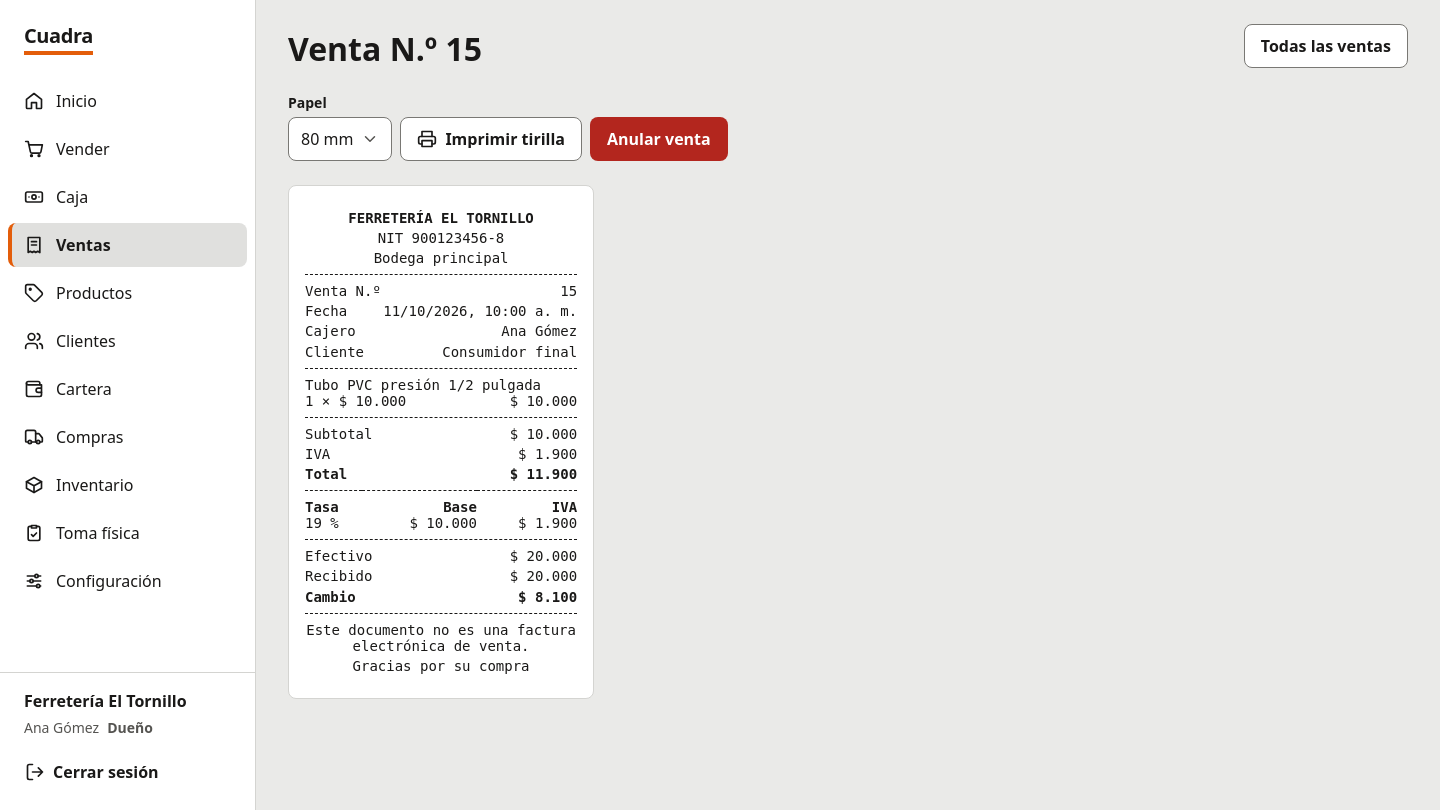
it: SaleDetailPage: anular › exige el motivo antes de anular
This screenshot has width=1440, height=810.
What coordinates should you click on to do the following:
click the button "Anular venta"
I would click on:
 (659, 139)
Its box is [590, 117, 728, 161].
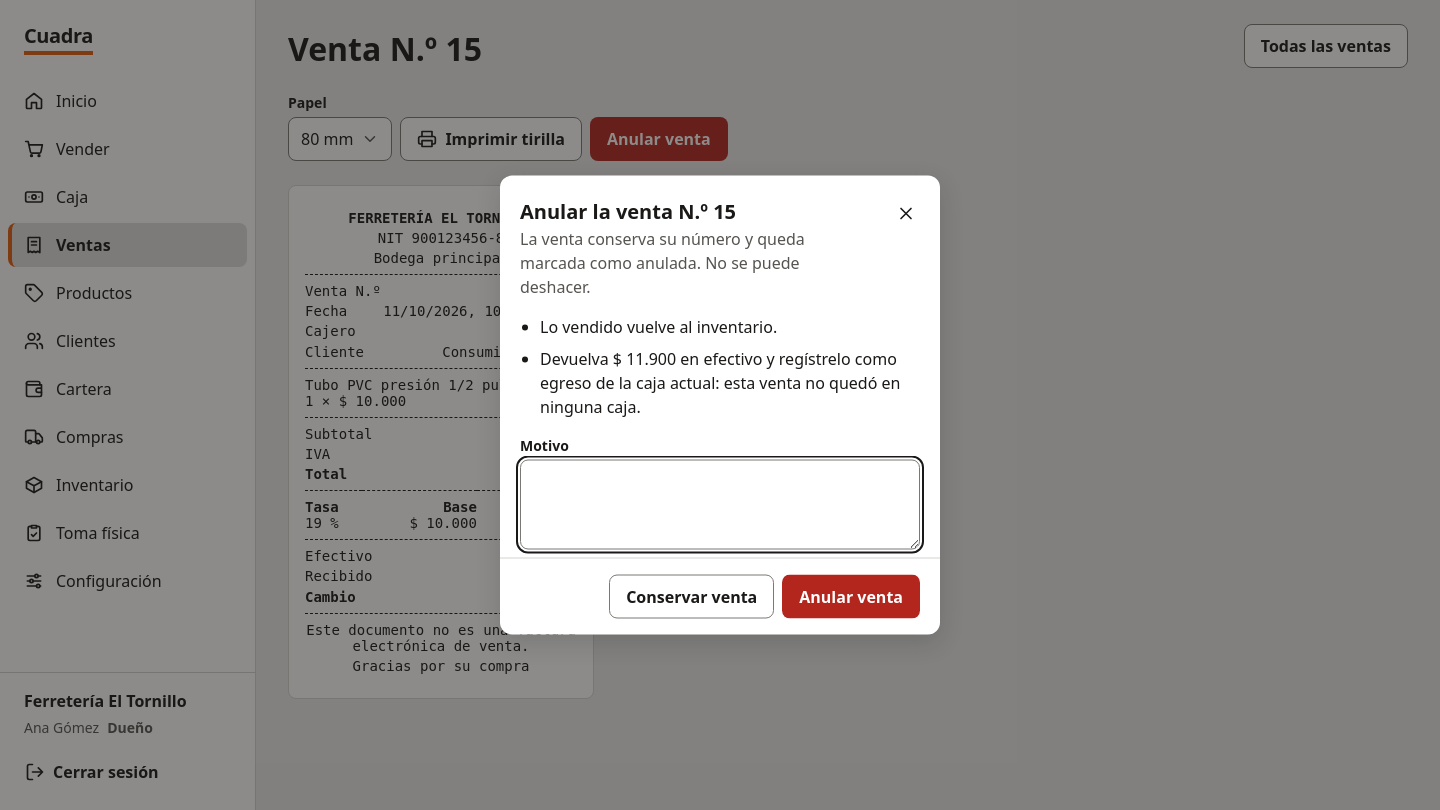
What coordinates should you click on to do the following:
click the button "Anular venta"
I would click on:
 (851, 596)
Its box is [782, 574, 920, 618].
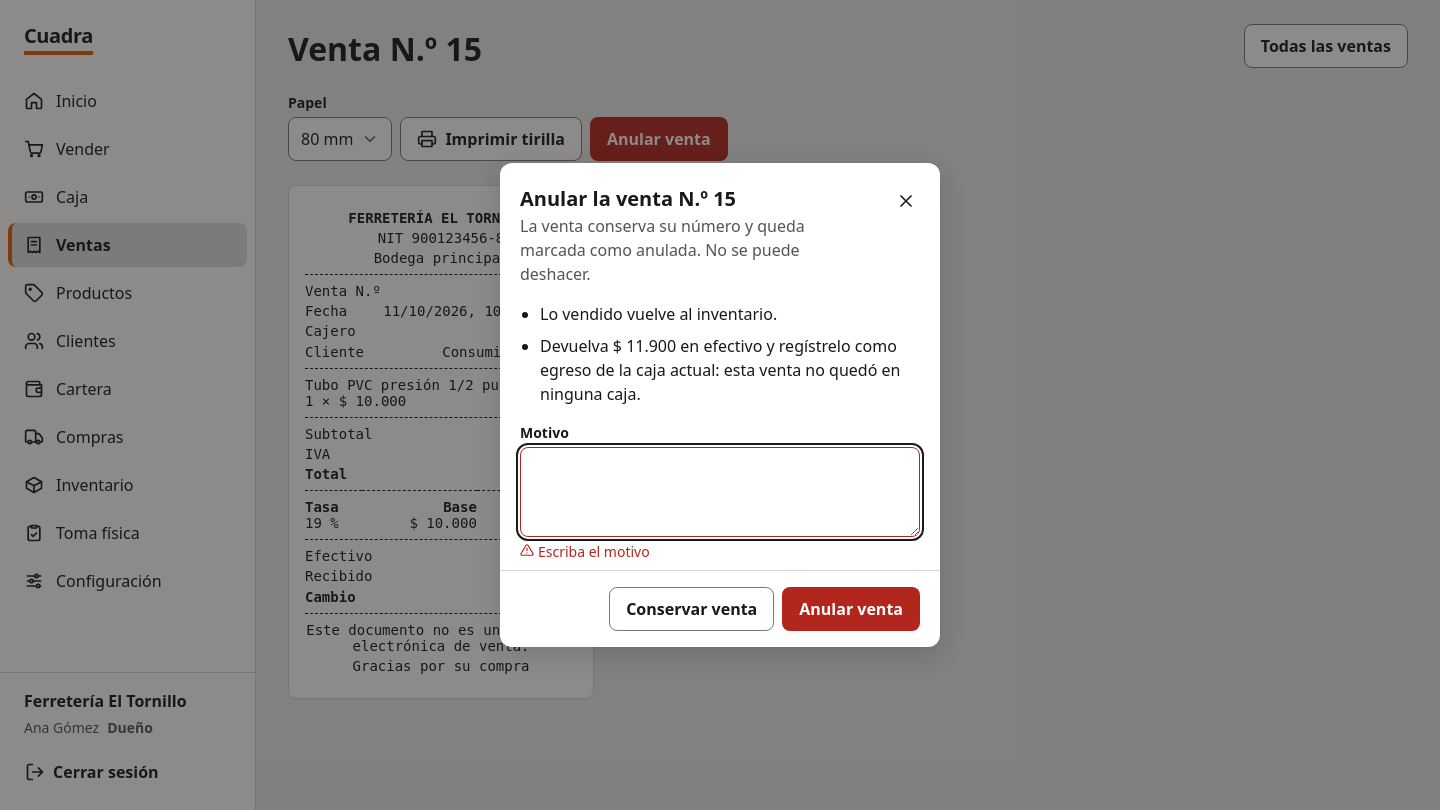
Now the text "Escriba el motivo" is shown, box [538, 541, 650, 562]
